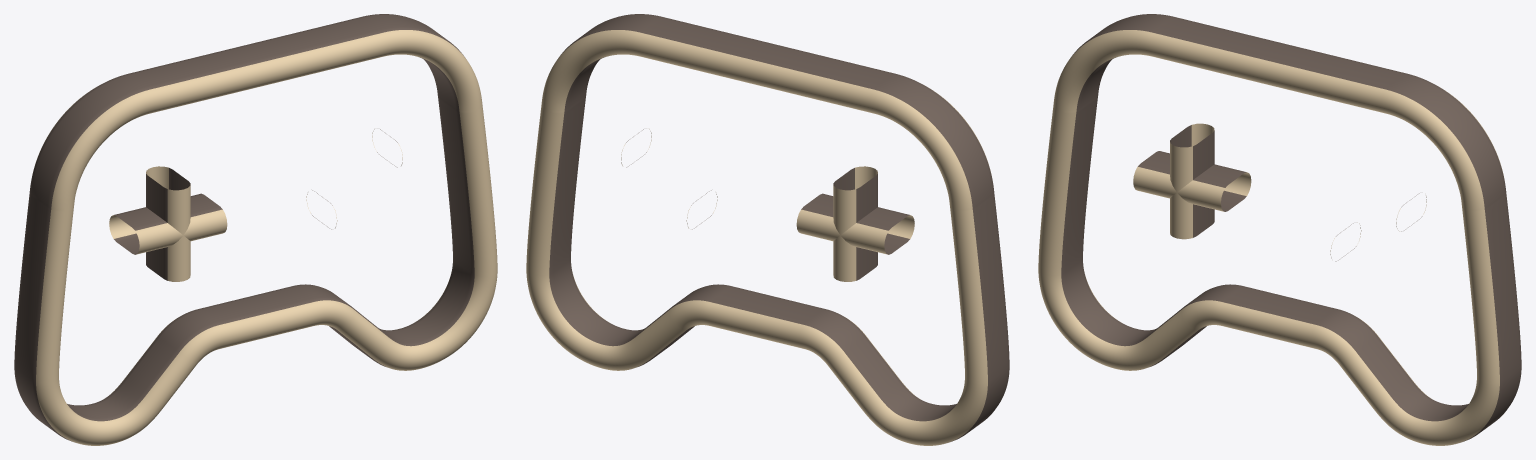
Rendered from game-development.glb.
The picture shows the model from 3 angles, left to right: view 1: azimuth 30°, elevation 25°; view 2: azimuth 150°, elevation 25°; view 3: azimuth 330°, elevation 25°; orthographic projection.
Visible parts, largest first — view 1: showcase_icon_game-development; view 2: showcase_icon_game-development; view 3: showcase_icon_game-development.
Part boxes in pixels (x1=…): showcase_icon_game-development: x1=14, y1=14, x2=497, y2=445; showcase_icon_game-development: x1=526, y1=14, x2=1009, y2=445; showcase_icon_game-development: x1=1038, y1=14, x2=1521, y2=445.
Size of the model in its own units: 1.4 by 1 by 0.1592.
